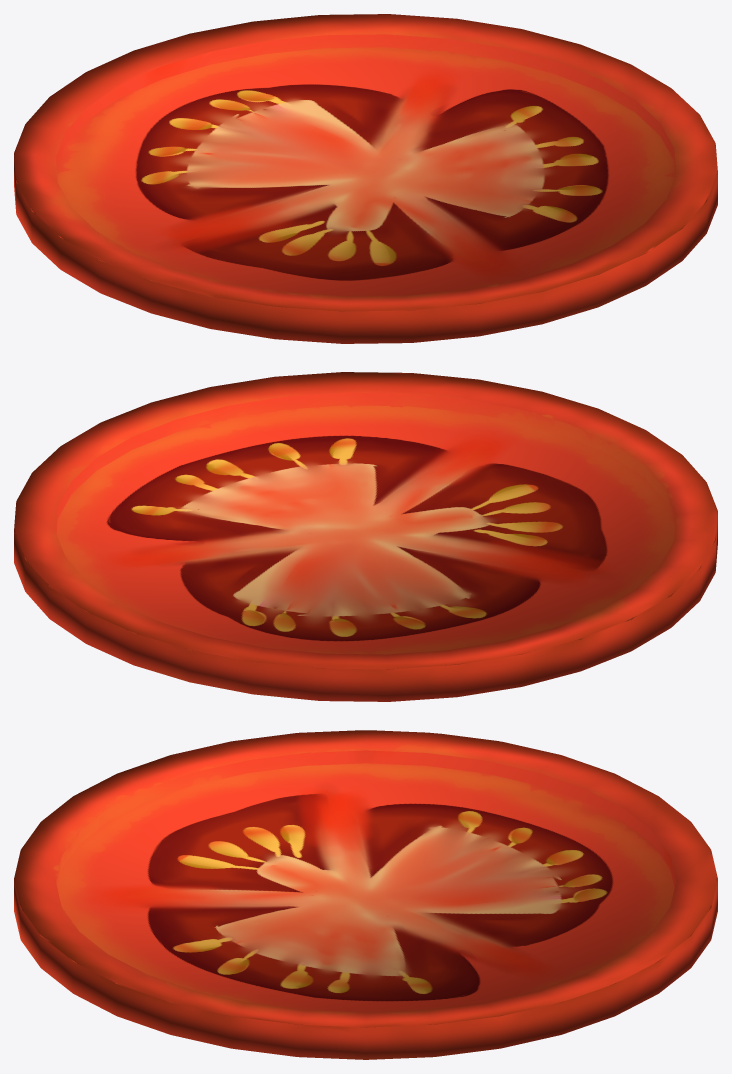
Rendered from tomatinho .dae.
3 renders of one model, top to bottom at view 1: azimuth 30°, elevation 25°; view 2: azimuth 150°, elevation 25°; view 3: azimuth 270°, elevation 25°, orthographic.
Visible parts, largest first — view 1: Circle; view 2: Circle; view 3: Circle.
Part boxes in pixels (box(x1,y1,x2,y2)): Circle: box(14, 14, 717, 343); Circle: box(14, 372, 717, 701); Circle: box(14, 730, 717, 1059).
Size of the model in its own units: 2 by 2 by 0.1015.
Materials: 1 (1 with a texture image).
